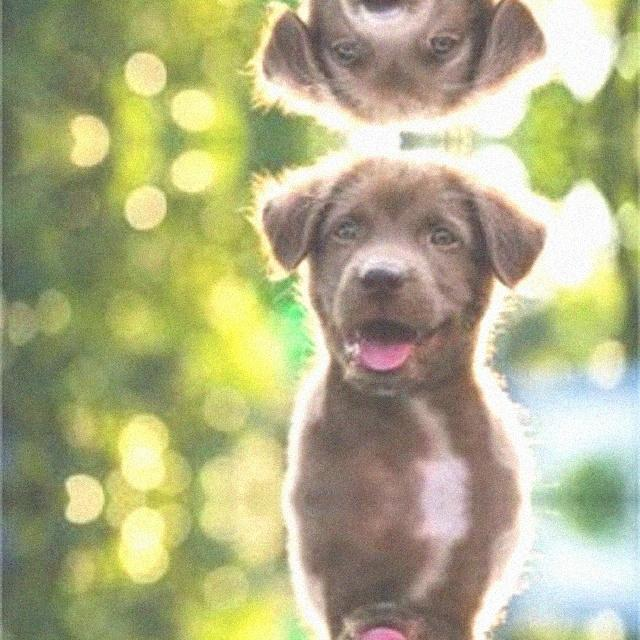dog: (246, 142, 554, 448), (246, 0, 553, 138), (246, 549, 553, 640)
